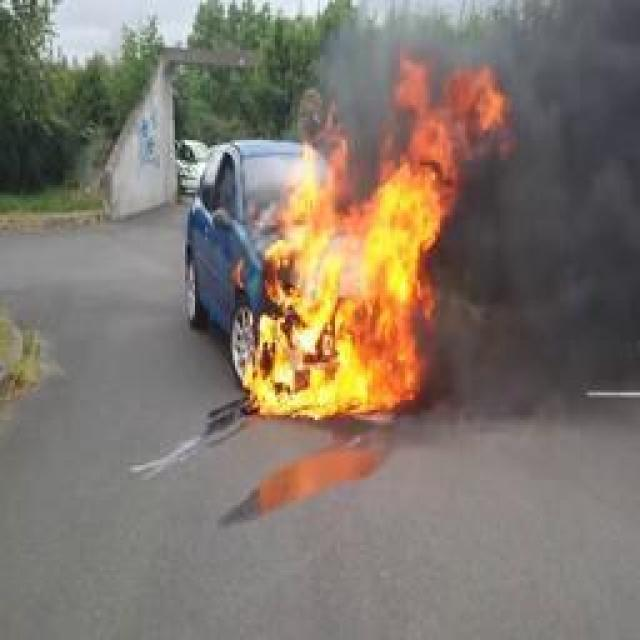Fire: (238, 50, 520, 425)
